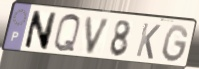8: (109, 19, 133, 59)
G: (161, 24, 190, 64)
K: (134, 22, 162, 62)
N: (22, 10, 58, 52)
Q: (52, 13, 82, 55)
V: (84, 16, 113, 57)
